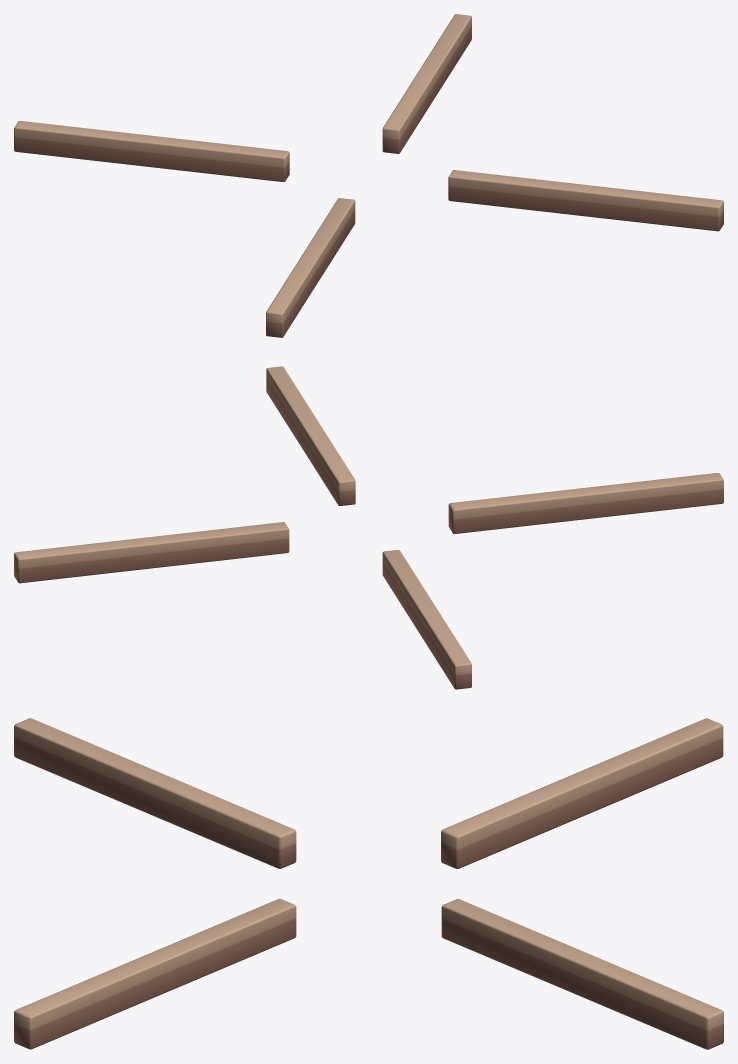
The model's file is Props.fbx.
3 renders of one model, top to bottom at view 1: azimuth 30°, elevation 25°; view 2: azimuth 150°, elevation 25°; view 3: azimuth 270°, elevation 25°, orthographic. The views are drawn at different scales.
Parts seen in each view (by area): view 1: Box20-3_1 (1), Box20-3_1, Box20-3_1 (3), Box20-3_1 (2); view 2: Box20-3_1 (2), Box20-3_1 (3), Box20-3_1, Box20-3_1 (1); view 3: Box20-3_1 (1), Box20-3_1 (2), Box20-3_1 (3), Box20-3_1.
Part boxes in pixels (x1=…): Box20-3_1 (1): x1=448, y1=170, x2=723, y2=231; Box20-3_1: x1=14, y1=121, x2=289, y2=181; Box20-3_1 (3): x1=382, y1=14, x2=471, y2=153; Box20-3_1 (2): x1=266, y1=198, x2=355, y2=337; Box20-3_1 (2): x1=448, y1=473, x2=723, y2=533; Box20-3_1 (3): x1=14, y1=522, x2=289, y2=583; Box20-3_1: x1=382, y1=550, x2=471, y2=689; Box20-3_1 (1): x1=266, y1=366, x2=355, y2=505; Box20-3_1 (1): x1=14, y1=898, x2=296, y2=1049; Box20-3_1 (2): x1=14, y1=718, x2=296, y2=868; Box20-3_1 (3): x1=441, y1=899, x2=723, y2=1049; Box20-3_1: x1=441, y1=718, x2=723, y2=868.
Bounding box in the file's own units: 29.29 × 1.5 × 29.29.
